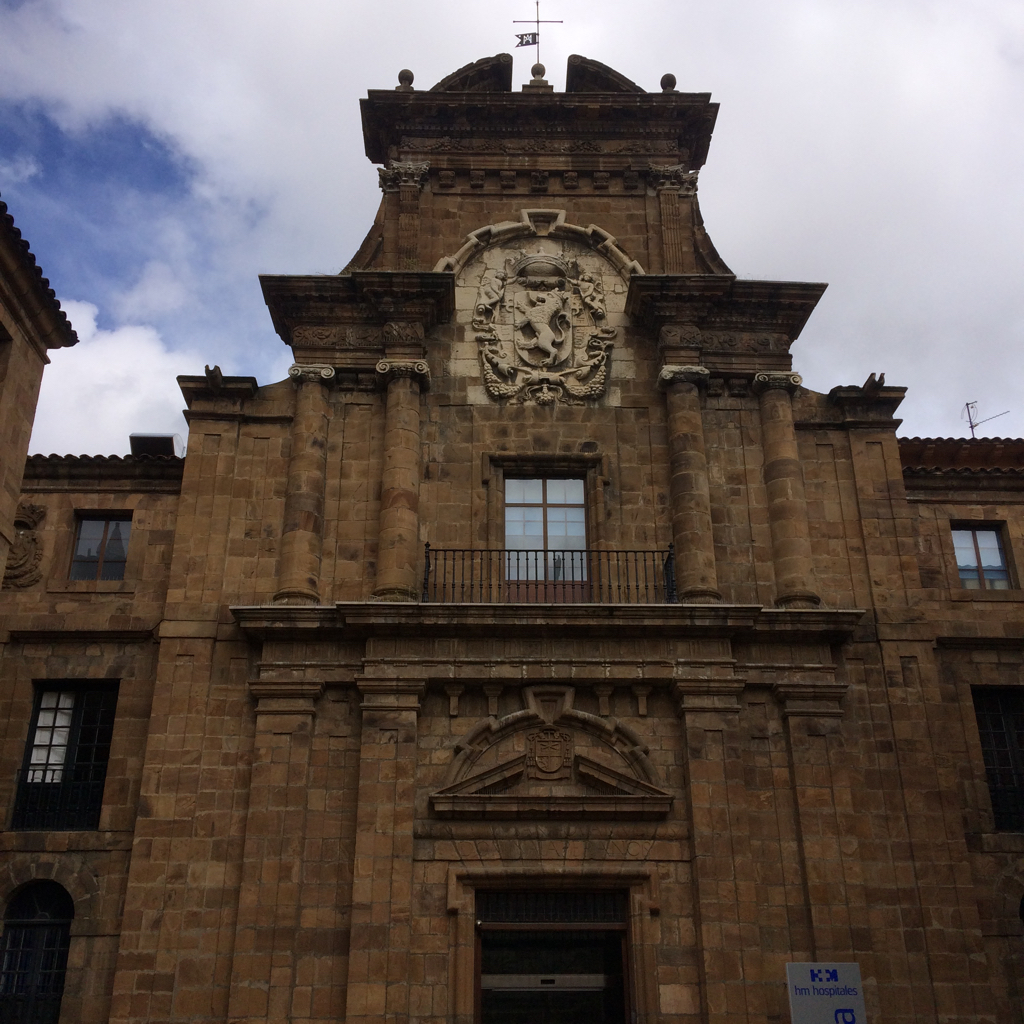fronton: (426, 749, 678, 817)
fronton-partido: (427, 50, 651, 101)
vano-adintelado: (442, 860, 665, 1024), (468, 435, 608, 602)
